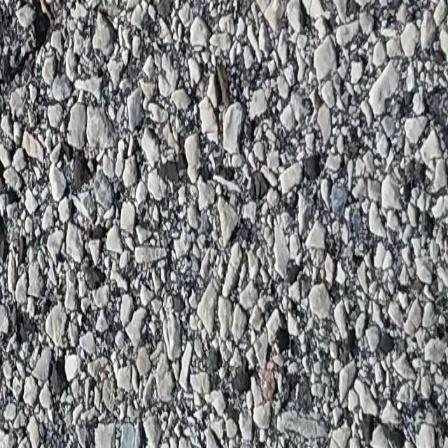crack: (0, 0, 73, 110)
